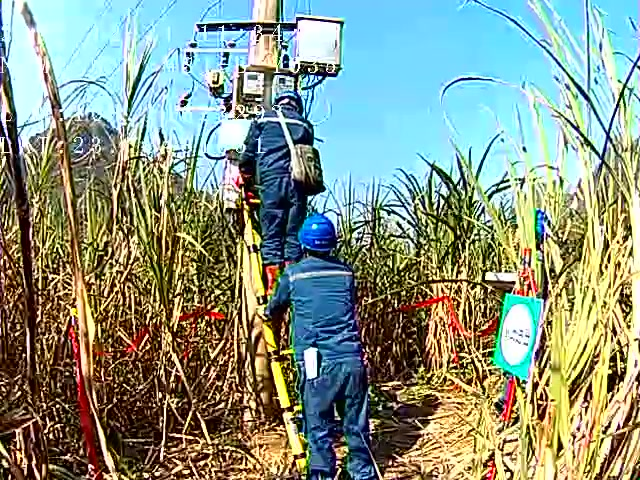halt: (301, 216, 342, 260), (275, 93, 307, 114)
